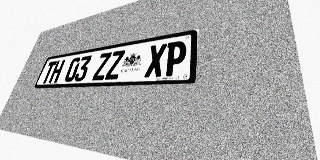0: (63, 57, 82, 82)
3: (73, 55, 92, 82)
H: (48, 59, 65, 83)
P: (163, 40, 187, 76)
T: (40, 61, 57, 83)
X: (144, 43, 167, 78)
Z: (105, 50, 125, 80), (92, 52, 112, 81)
